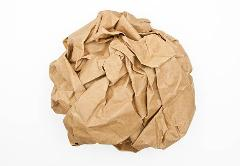paper: (48, 9, 196, 153)
